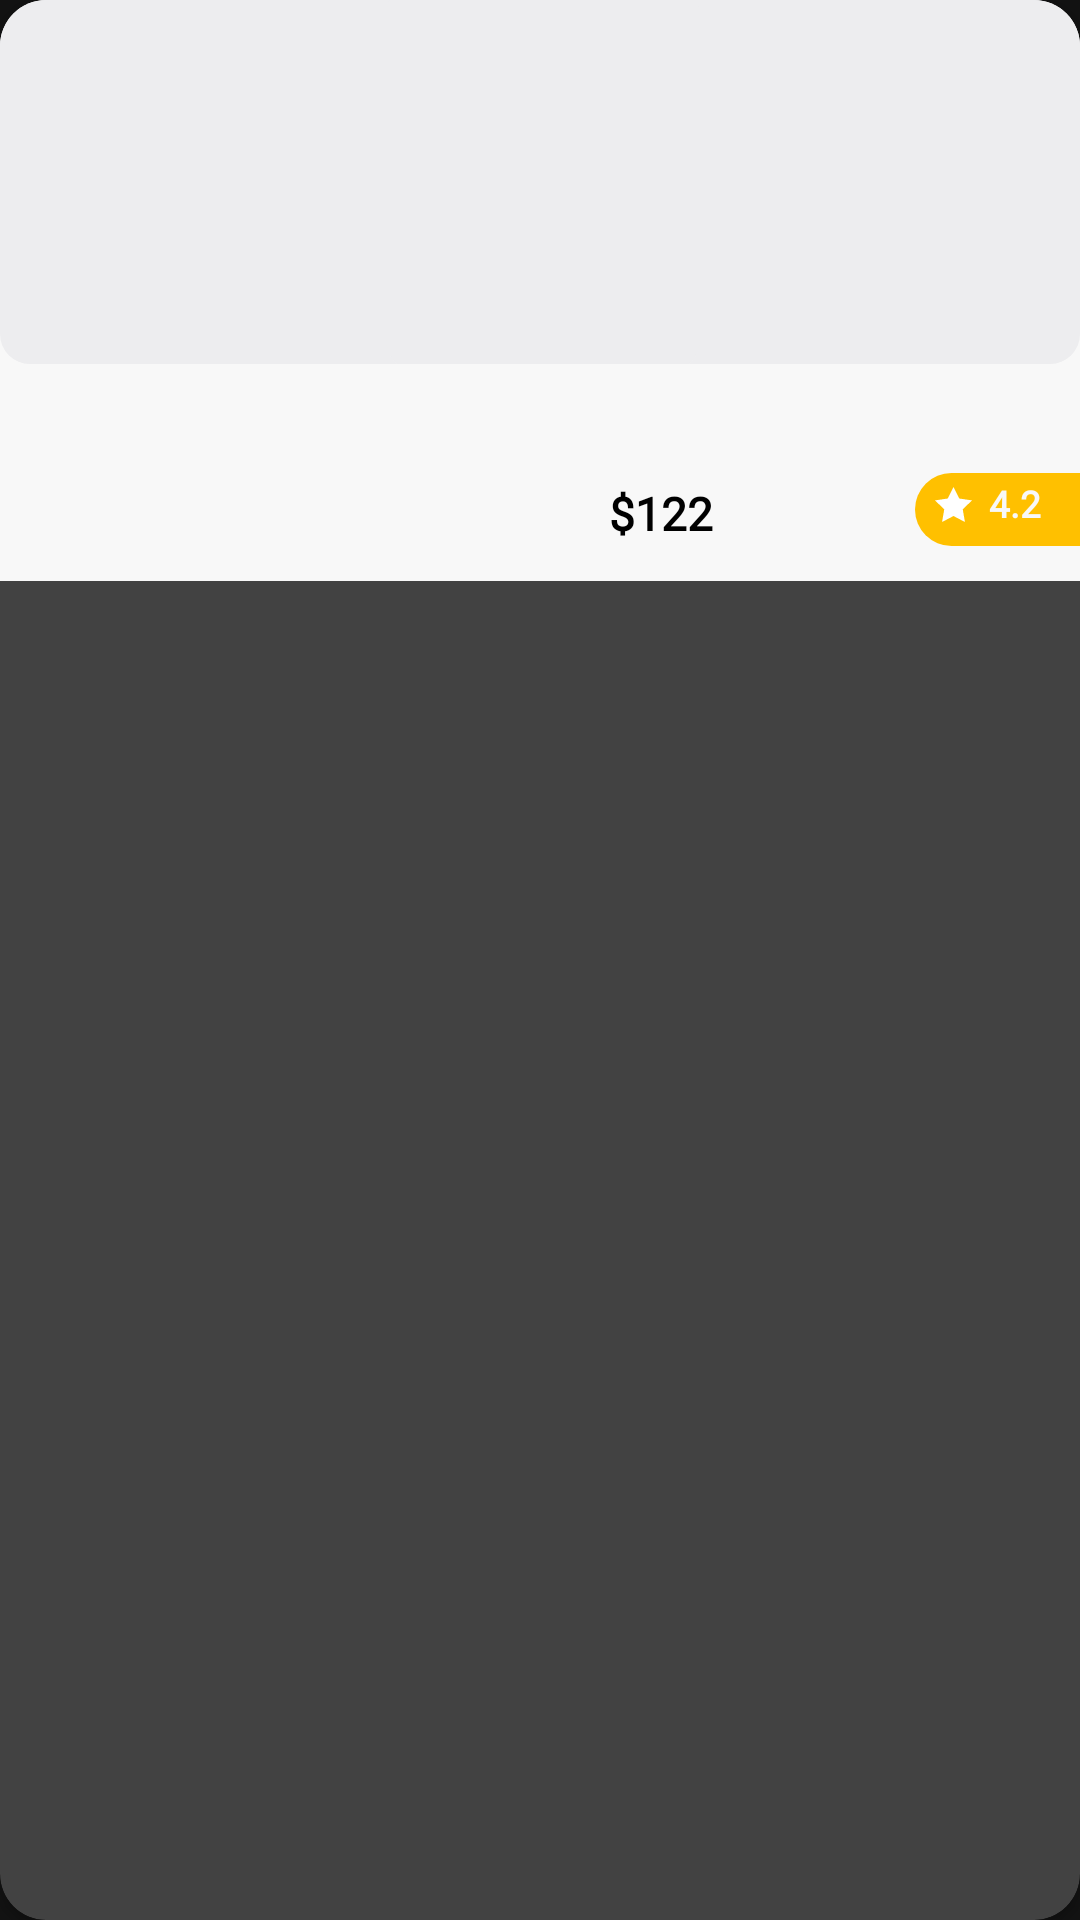

Icons on this 1080 × 1920 Android screen, each with the point to tap as (x,y):
star: (953,504)
